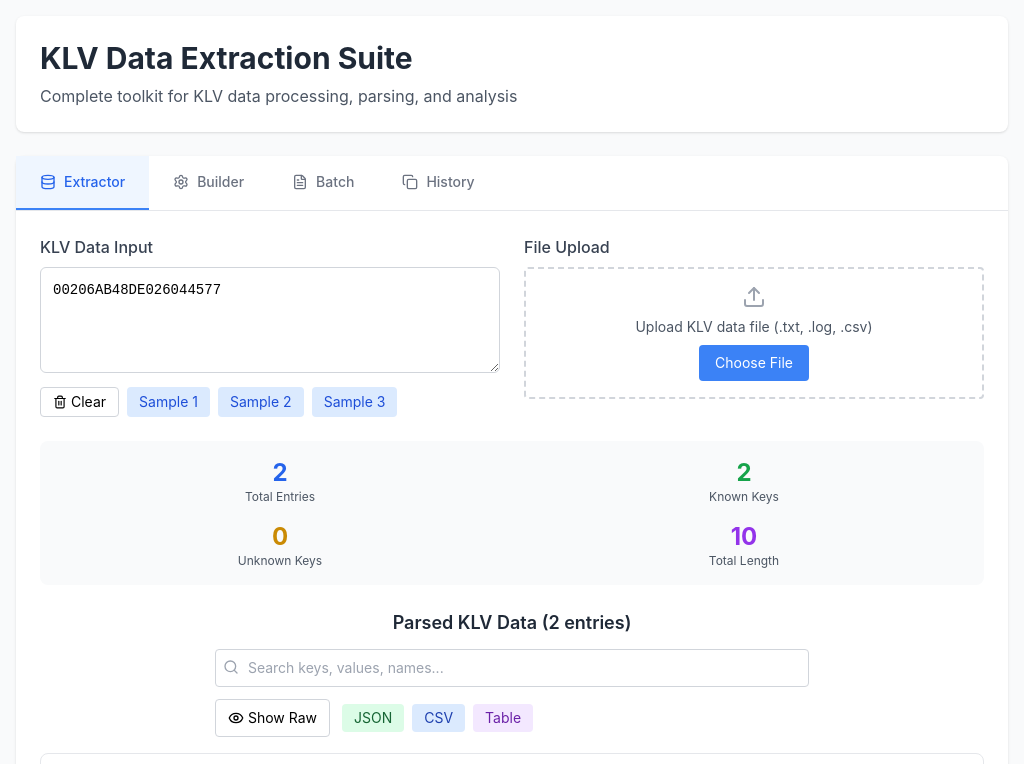
App Integration Tests › Tab Navigation › should switch to history tab when clicked
Click the button "History": coordinates (439, 183) [378,156,499,210]
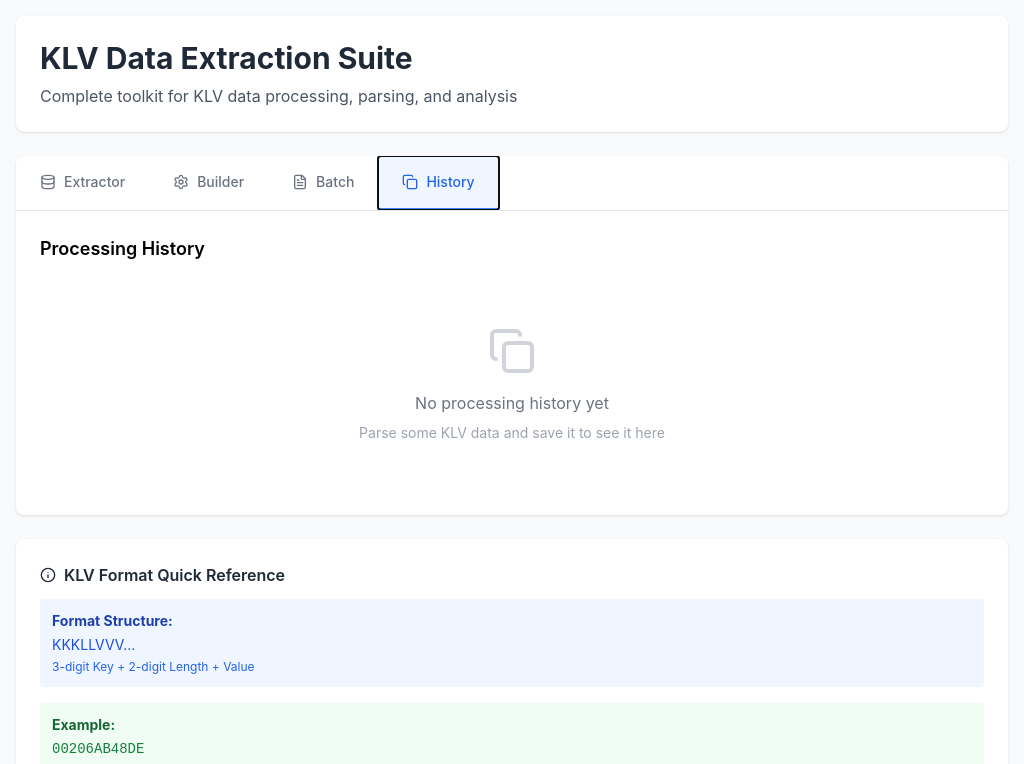
Now the heading "Processing History" is shown, box [40,235,205,263]
Now the text "No processing history yet" is shown, box [415,393,609,413]
